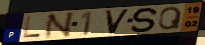1: (80, 10, 93, 37)
L: (22, 15, 43, 39)
N: (43, 11, 77, 40)
Q: (157, 6, 183, 31)
S: (129, 7, 161, 34)
V: (103, 8, 133, 35)
